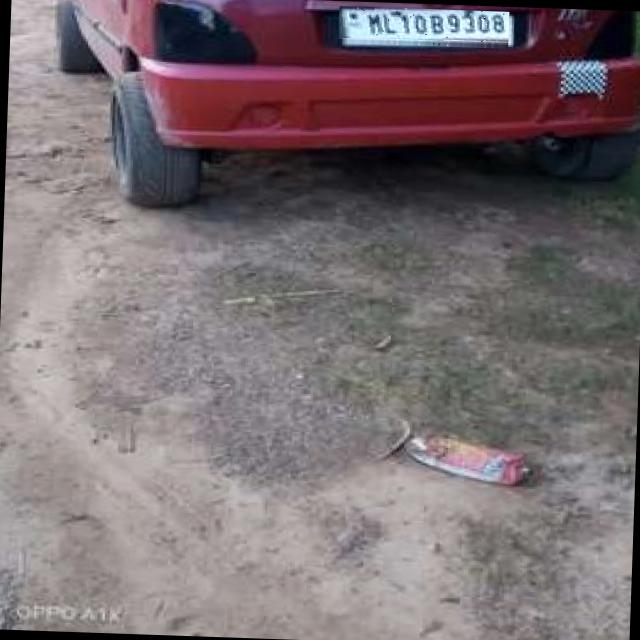Plate: (339, 7, 510, 49)
